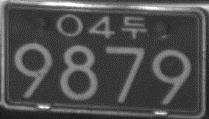0: (55, 13, 83, 37)
4: (87, 15, 115, 39)
7: (104, 44, 146, 104)
8: (58, 44, 98, 102)
9: (150, 47, 192, 105), (13, 42, 53, 99)
두: (121, 15, 148, 39)
